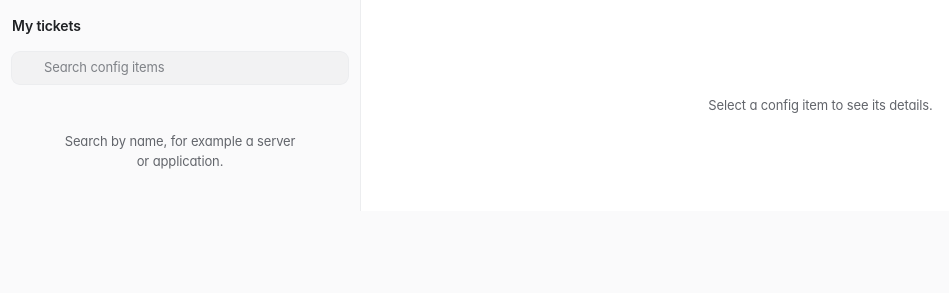
Scenario: CmdbScreen (section 11) › searches through the model and lists results with the header (CMDB-2…5)
Type "vpn" into the search field labelled "Search config items" at (191, 68), box [44, 58, 338, 78]
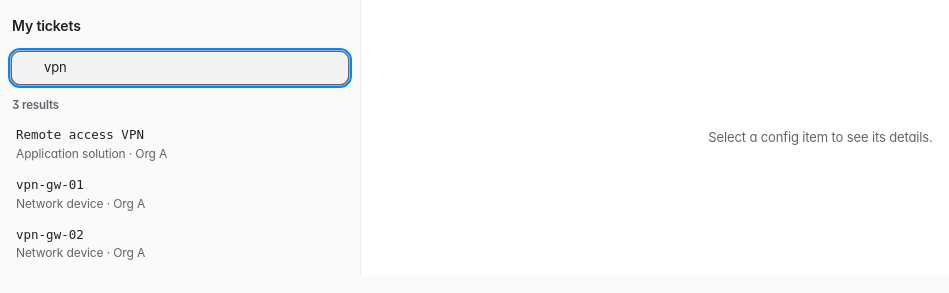
Expected: the option "Remote access VPN Application solution · Org A" is shown, [16, 127, 167, 161]
Expected: the text "3 results" is shown, [12, 97, 59, 115]
